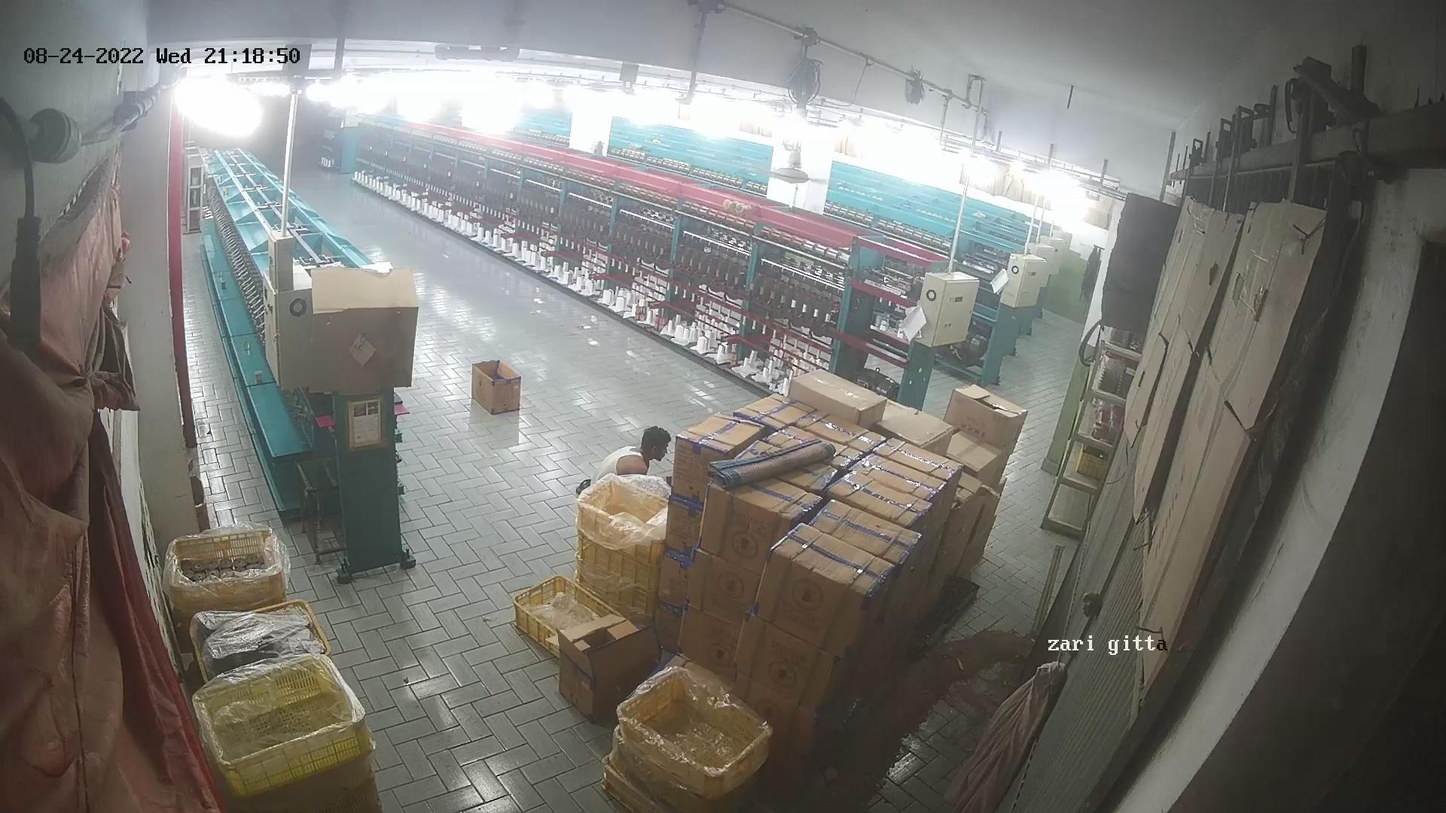person: (581, 421, 671, 506)
